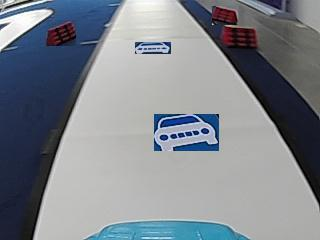bomb: (220, 25, 257, 46)
